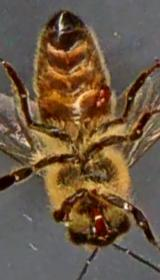varroa_mite: (92, 78, 114, 120)
